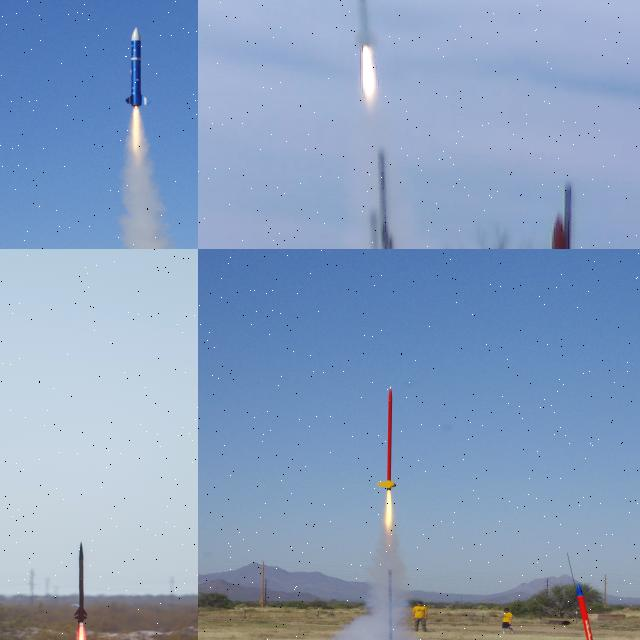Rocket: (124, 26, 153, 108), (525, 210, 582, 249), (377, 386, 397, 491), (574, 582, 604, 640), (348, 0, 380, 46), (74, 541, 88, 624)
